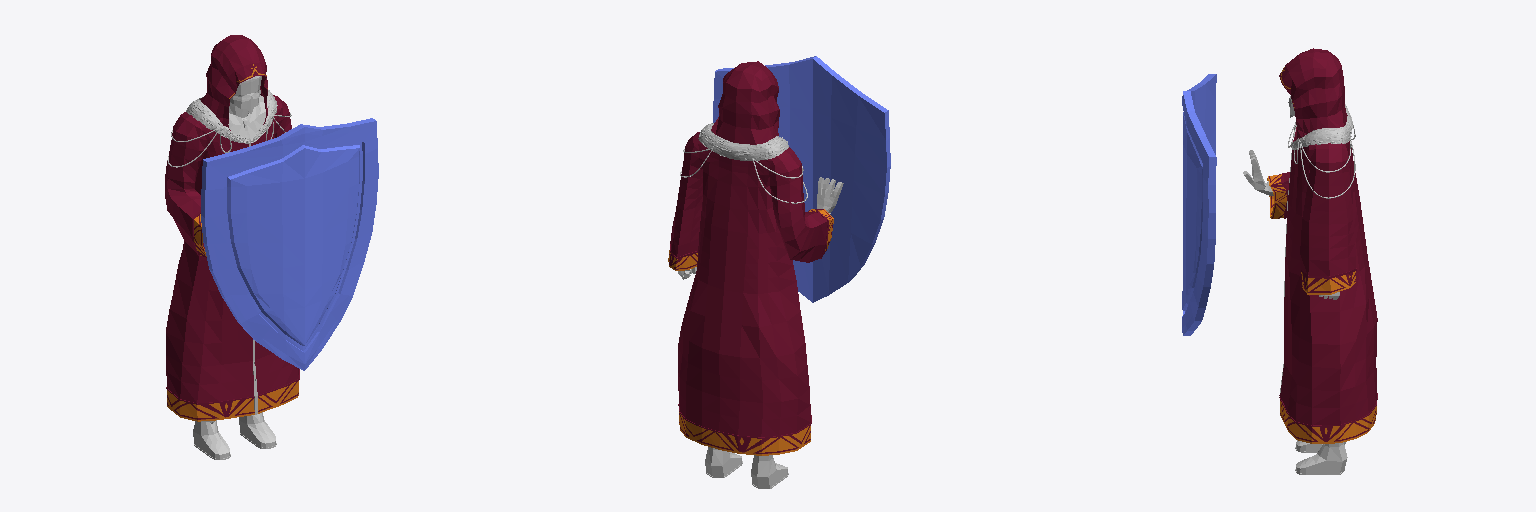
3 views of the same model, side by side, from view 1: azimuth 30°, elevation 25°; view 2: azimuth 150°, elevation 25°; view 3: azimuth 270°, elevation 25° (orthographic).
Visible parts, largest first — view 1: Plane_Plane.006, hood_Plane, boots_Cylinder.004, fur_Plane.004, shirt_Cylinder.002, Cylinder; view 2: hood_Plane, Plane_Plane.006, boots_Cylinder.004, fur_Plane.004; view 3: hood_Plane, Plane_Plane.006, boots_Cylinder.004, fur_Plane.004.
Part boxes in pixels (left/top/right/bottom): Plane_Plane.006: left=201, top=118, right=378, bottom=370; hood_Plane: left=165, top=35, right=298, bottom=421; boots_Cylinder.004: left=193, top=412, right=276, bottom=459; fur_Plane.004: left=186, top=90, right=277, bottom=142; shirt_Cylinder.002: left=228, top=100, right=265, bottom=138; Cylinder: left=201, top=76, right=265, bottom=422; hood_Plane: left=668, top=61, right=843, bottom=455; Plane_Plane.006: left=713, top=56, right=890, bottom=302; boots_Cylinder.004: left=705, top=447, right=788, bottom=488; fur_Plane.004: left=698, top=123, right=788, bottom=160; hood_Plane: left=1243, top=48, right=1377, bottom=443; Plane_Plane.006: left=1182, top=74, right=1216, bottom=335; boots_Cylinder.004: left=1295, top=440, right=1347, bottom=474; fur_Plane.004: left=1291, top=104, right=1352, bottom=149.
Bounding box in the file's own units: 0.8103 × 1.81 × 0.7892.
4 materials, 1 textured.